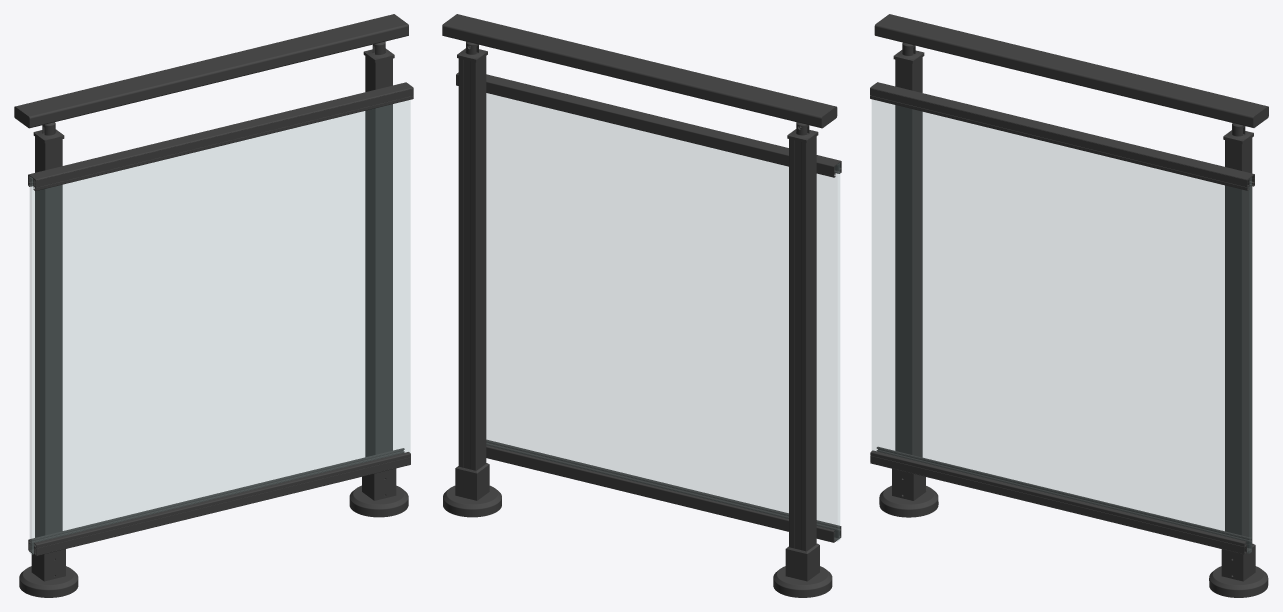
Rendered from middle piece.glb.
3 views of the same model, side by side, from view 1: azimuth 30°, elevation 25°; view 2: azimuth 150°, elevation 25°; view 3: azimuth 330°, elevation 25° (orthographic).
Size of the model in its own units: 0.00852 by 0.0102 by 0.00114.
